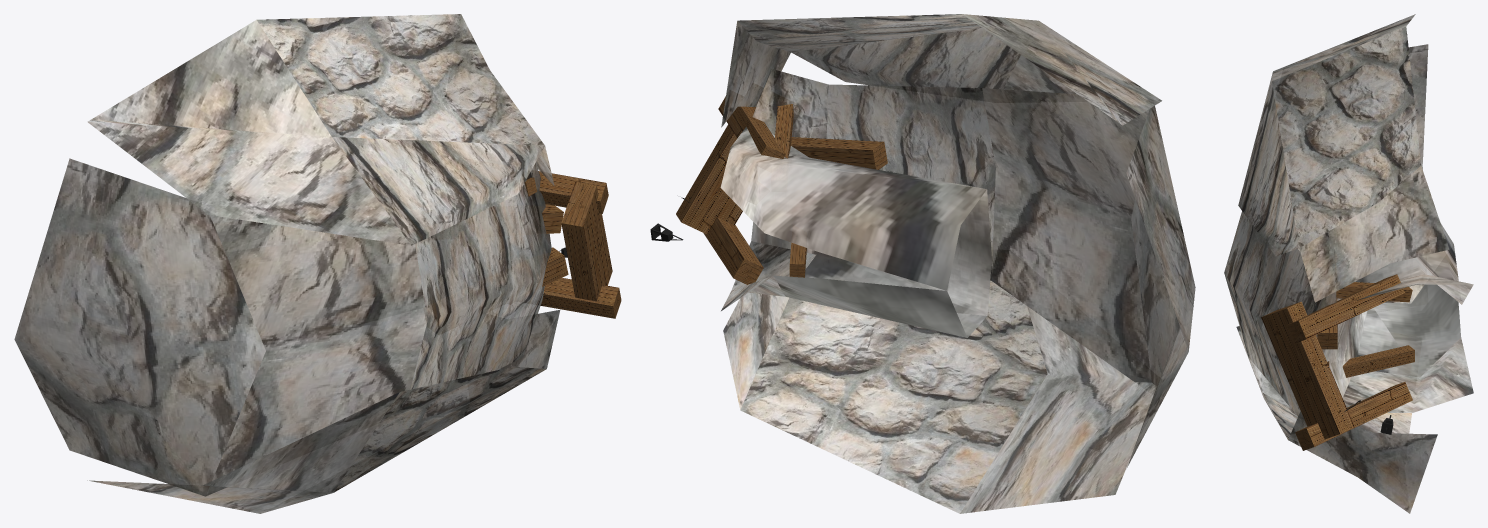
The model's file is mine_000014.obj.
The picture shows the model from 3 angles, left to right: view 1: azimuth 30°, elevation 25°; view 2: azimuth 150°, elevation 25°; view 3: azimuth 270°, elevation 25°; orthographic projection. The views are drawn at different scales.
Visible parts, largest first — view 1: Cube.010, Cube.009, Cube, Cube.001, Cube.003, Cube.002; view 2: Cube.010, Cube, Cube.009, Cube.001, Cube.005, Cube.003, Cube.002, Cube.007; view 3: Cube.009, Cube.010, Cube, Cube.001, Cube.002, Cube.003, Cube.006, Cube.007, Cube.005.
Boxes of the visible parts, <box> form: Cube.010: <box>14,158,551,496</box>; Cube.009: <box>87,14,554,245</box>; Cube: <box>87,310,560,513</box>; Cube.001: <box>561,181,612,301</box>; Cube.003: <box>540,278,621,318</box>; Cube.002: <box>538,171,608,213</box>; Cube.010: <box>720,69,1195,467</box>; Cube: <box>723,280,1156,513</box>; Cube.009: <box>721,14,1161,127</box>; Cube.001: <box>676,107,756,234</box>; Cube.005: <box>791,137,887,169</box>; Cube.003: <box>703,217,763,284</box>; Cube.002: <box>718,96,785,158</box>; Cube.007: <box>774,104,793,158</box>; Cube.009: <box>1238,14,1449,302</box>; Cube.010: <box>1224,44,1473,416</box>; Cube: <box>1236,326,1437,513</box>; Cube.001: <box>1261,301,1354,439</box>; Cube.002: <box>1287,274,1404,343</box>; Cube.003: <box>1295,382,1412,450</box>; Cube.006: <box>1342,345,1414,377</box>; Cube.007: <box>1311,282,1412,302</box>; Cube.005: <box>1317,298,1337,349</box>.
Bounding box in the file's own units: 9.6 × 8.21 × 4.22.
